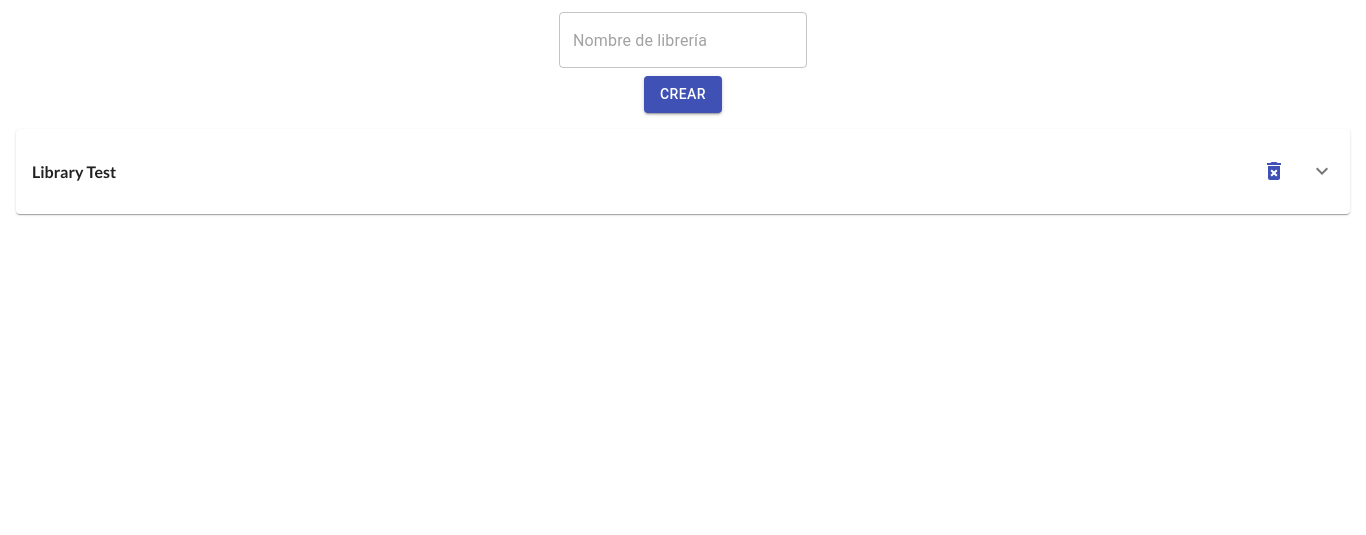
Test: Bookstore Page › do not display the library quotes until user opens the library
Expected: the text "Test Quote 1" is not shown
Expected: the text "Test Quote 2" is not shown
Click the button "Library Test".
click(74, 171)  # box top-left (32, 147), bottom-right (1334, 195)
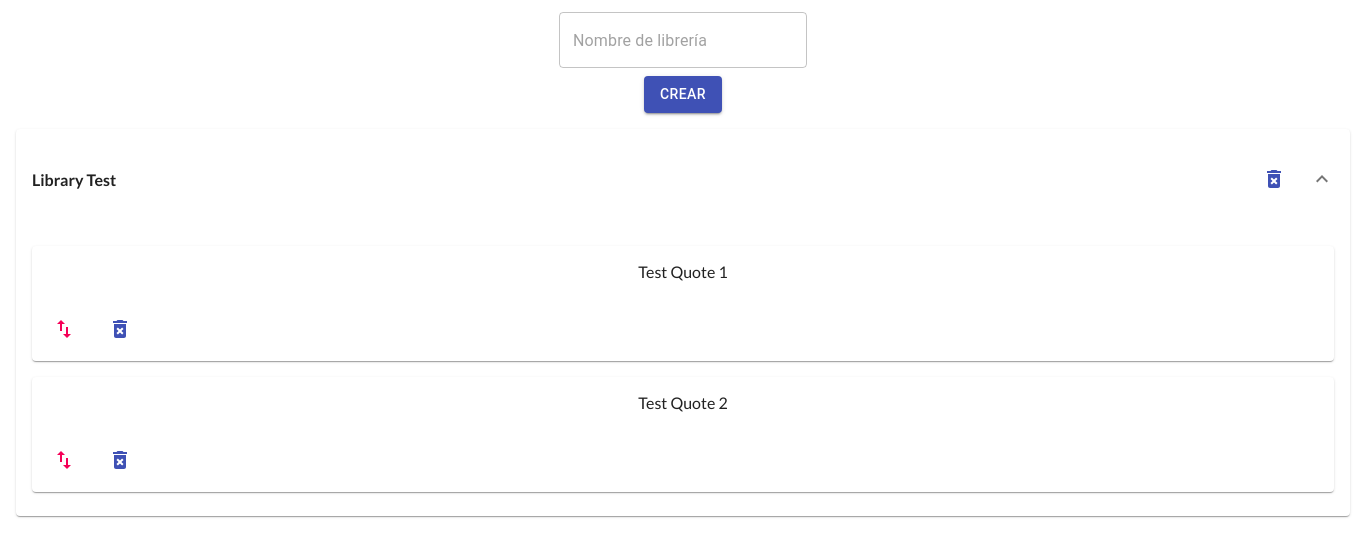
Expected: the text "Test Quote 1" is shown, top-left (638, 262), bottom-right (728, 281)
Expected: the text "Test Quote 2" is shown, top-left (638, 393), bottom-right (728, 412)
Expected: the number of buttons named "Move Quote" is 2, top-left (40, 305), bottom-right (88, 353); top-left (40, 436), bottom-right (88, 484)
